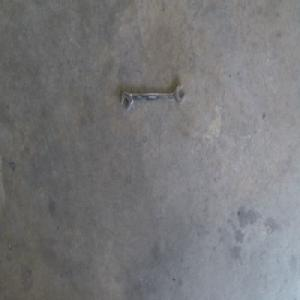Wrench: (119, 84, 184, 111)
